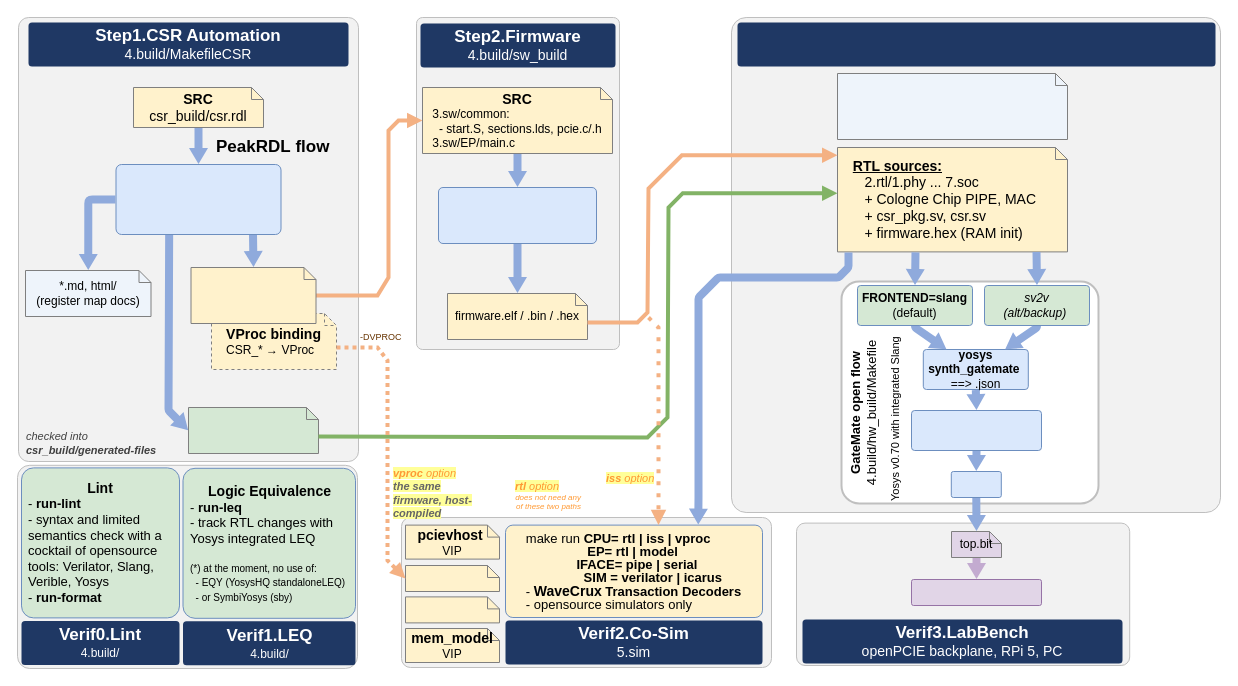
The diagram is 1238 pixels wide and 686 high, and some of its shapes have lost their labels. The box of each missing label's shape, as (x1, y1, x2, y2) in pixels:
Constraints: pins: *.ccf timing: *.sdc: (836, 72, 1068, 140)
csr_pkg.sv, csr.sv (register block RTL): (188, 406, 318, 454)
firmware HAL - csr.h - csr_regs.h: (190, 266, 316, 324)
gmpack: (950, 470, 1001, 498)
make -f MakefileCSR - peakrdl regblock - c-header, html, markdown: (115, 164, 281, 234)
make riscv-none-elf-gcc, rv32i: (438, 186, 596, 244)
nextpnr-himbaechel ==> impl.txt: (910, 410, 1042, 450)
rv32 VIP: (404, 596, 500, 623)
Step3.FPGA GateMate CCGM1A1 / A2: (737, 22, 1215, 66)
ULX5M-M2 card: (910, 578, 1042, 606)
VProc VIP: (404, 564, 500, 592)
